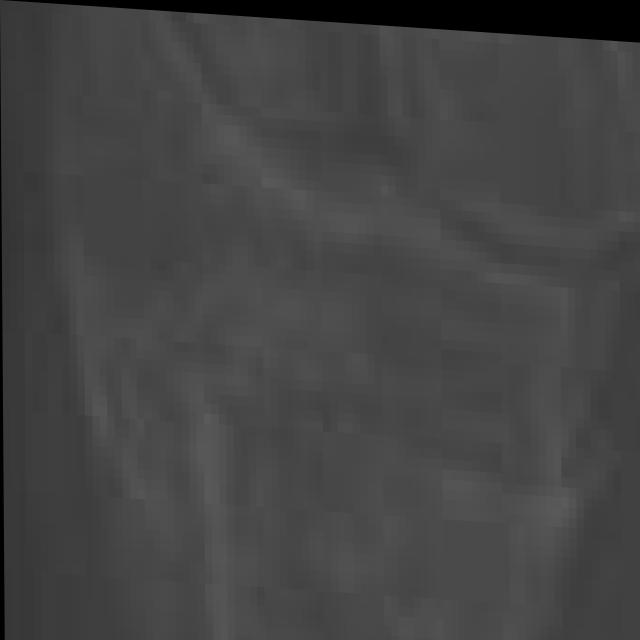fracture: (0, 6, 640, 640)
